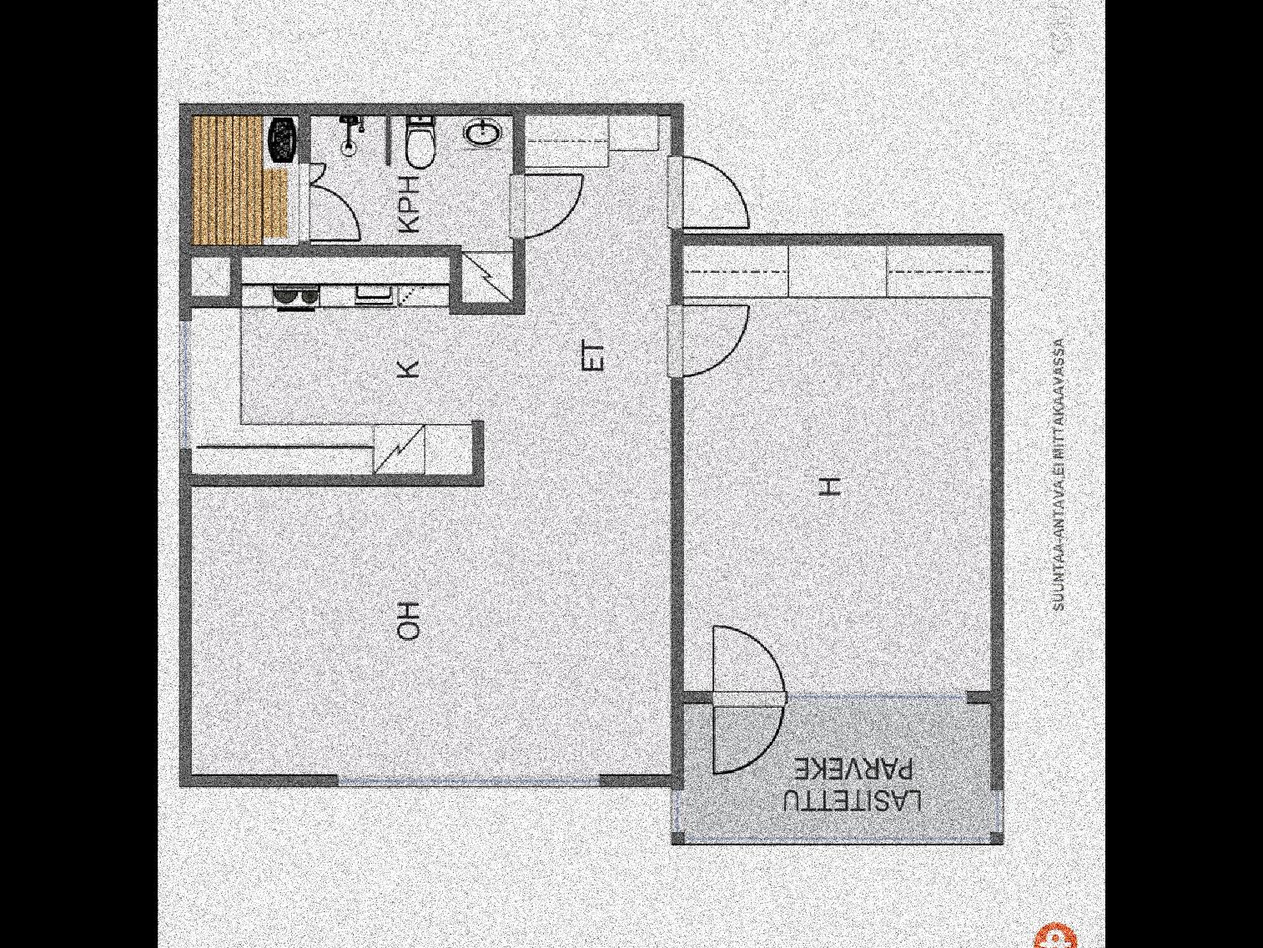door: (682, 240, 990, 686), (679, 701, 994, 839), (703, 601, 794, 790), (662, 151, 757, 234), (666, 299, 757, 378), (505, 163, 595, 240), (301, 189, 365, 246), (301, 164, 325, 191)
window: (344, 774, 599, 788), (171, 319, 194, 451), (994, 794, 1009, 830), (672, 791, 685, 829)
zone: (189, 117, 672, 774), (312, 124, 513, 243), (185, 118, 303, 249)
